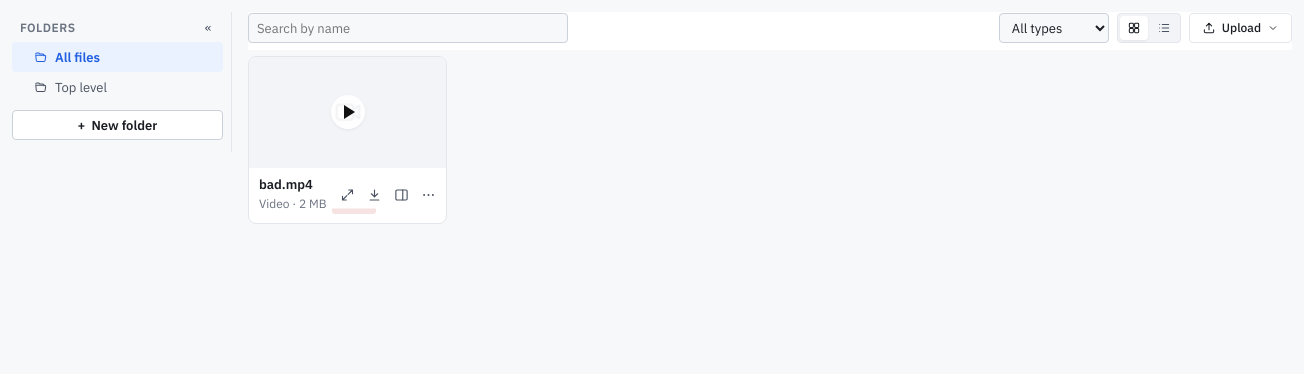
Retry › shows why a retry was refused
Click the button named "More for bad.mp4": [429, 195] box 415,182 -> 442,209
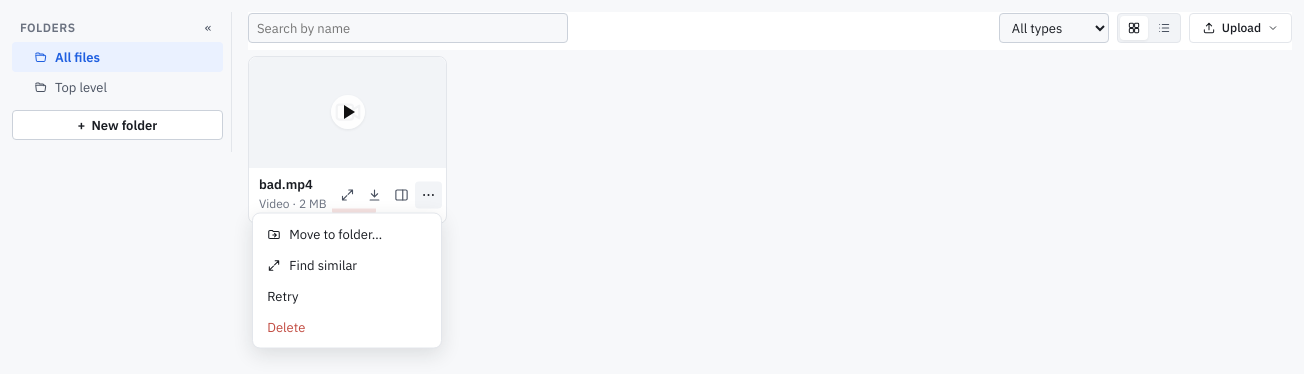
Click the menu item "Retry": [347, 296] box 258,281 -> 436,312
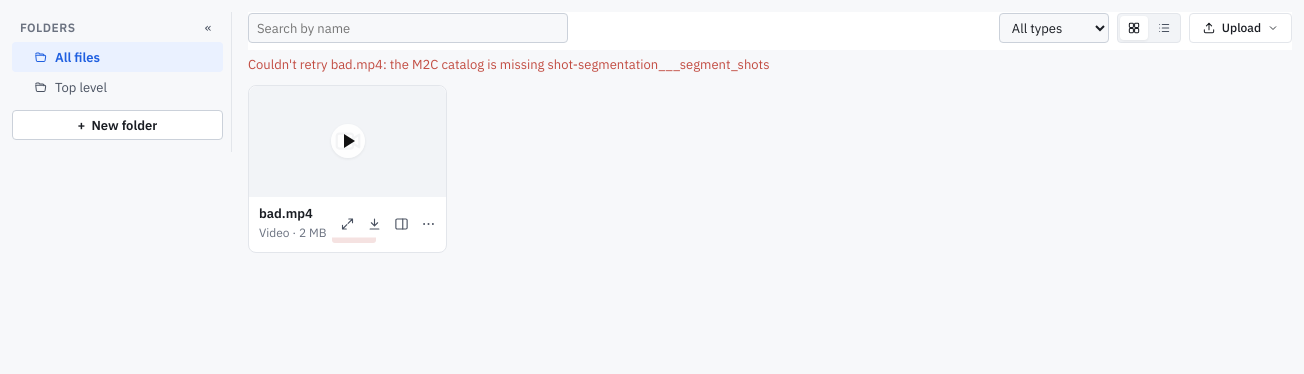
Expected: the message shows "Couldn't retry bad.mp4: the M2C catalog is missing", 248,56 -> 770,73
